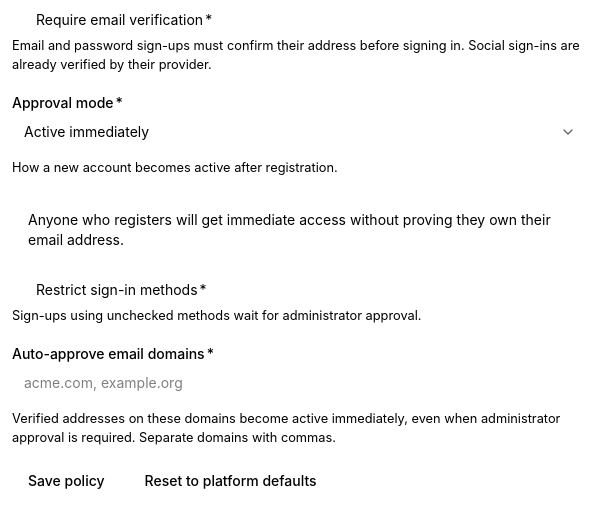
AuthPolicyForm › does NOT substitute the strict baseline when the platform defaults are withheld
Click the button "Reset to platform defaults". click: (231, 481)
box: x1=128 y1=463 x2=333 y2=499
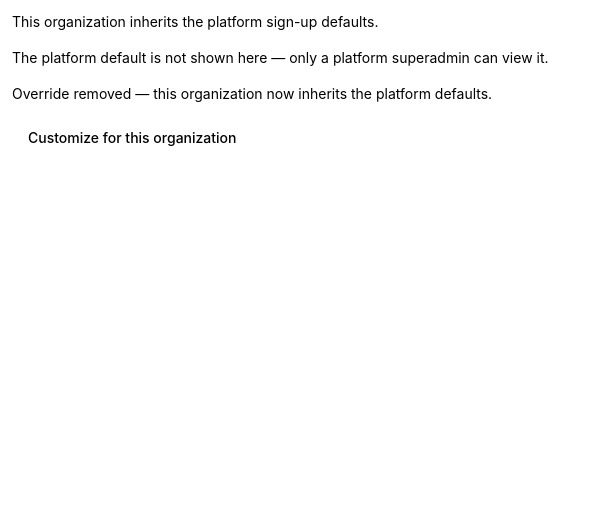
Expected: the message shows "inherits", x1=12 y1=85 x2=492 y2=102
Expected: the text "only a platform superadmin can view it" is shown, x1=12 y1=49 x2=549 y2=66
Expected: the text "email verification" is gone
